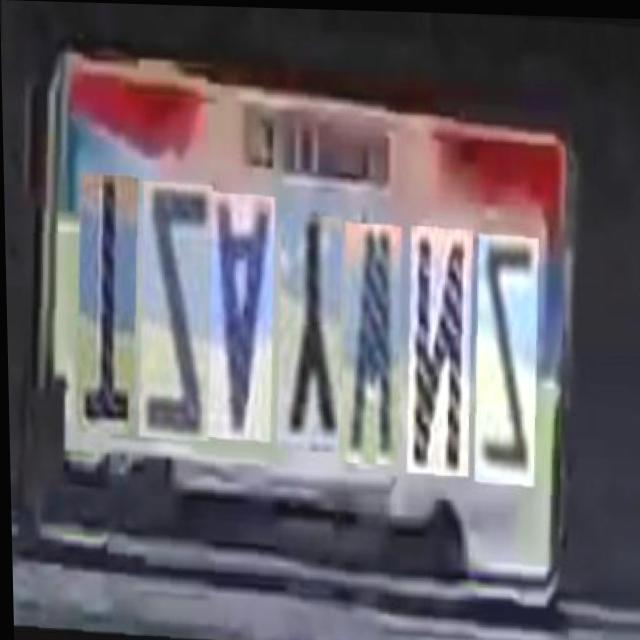a: (200, 202, 272, 451)
n: (398, 229, 469, 478)
t: (67, 190, 134, 451)
w: (331, 227, 398, 470)
y: (268, 221, 338, 459)
z: (130, 195, 210, 452), (465, 233, 536, 485)
